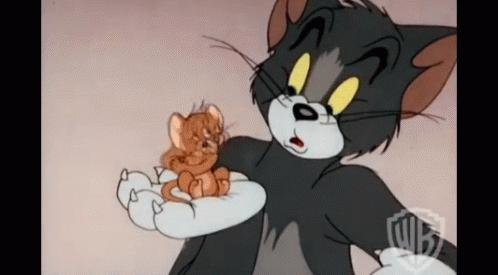jerry: (158, 99, 232, 219)
